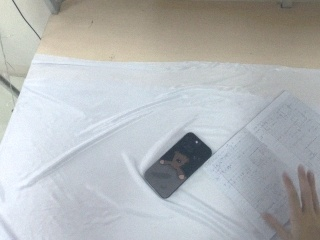phone: (143, 132, 213, 199)
